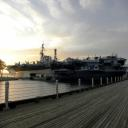Portanaves: (6, 42, 126, 82), (5, 42, 62, 79)
